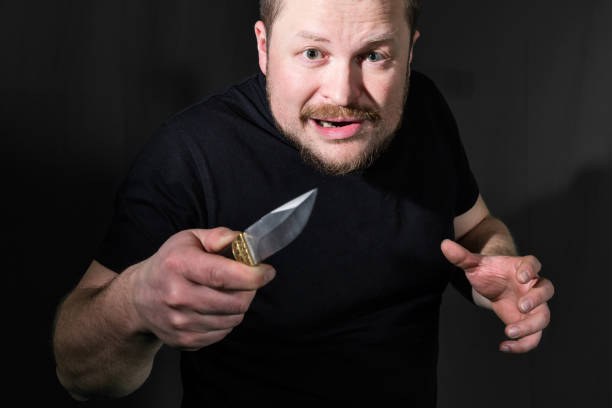knife: (238, 186, 319, 266)
